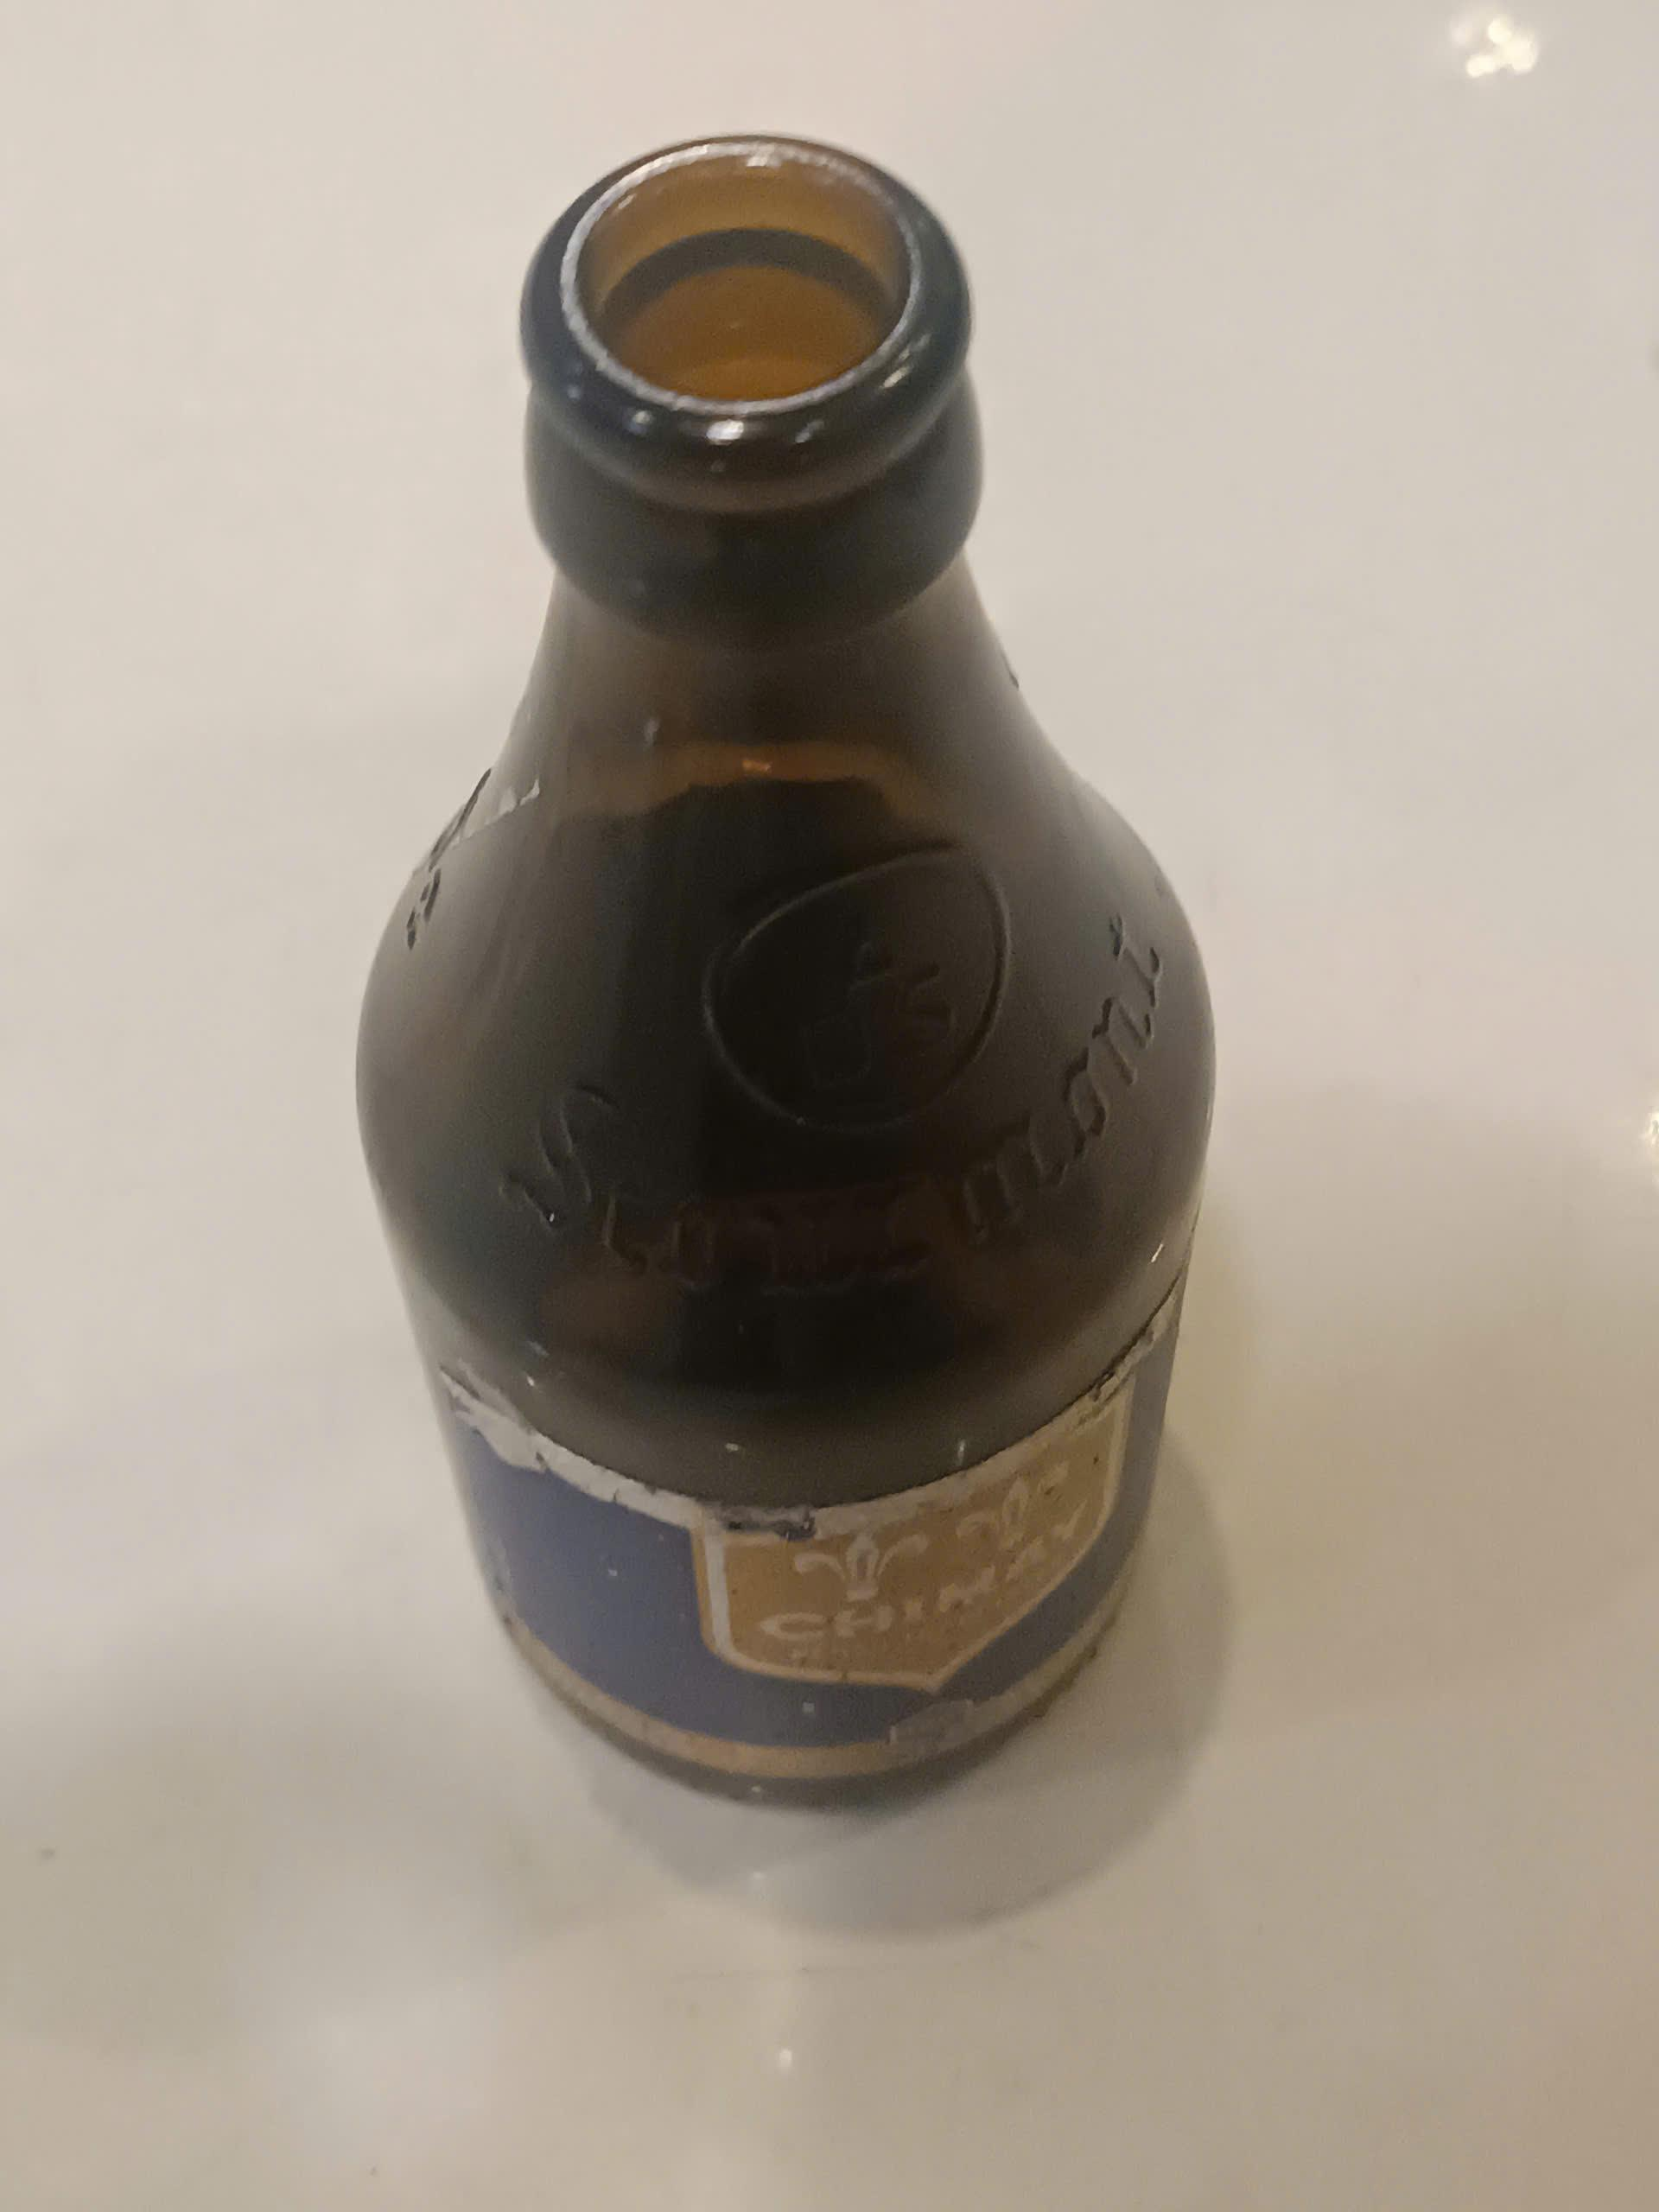Vo co: (350, 134, 1216, 1789)
